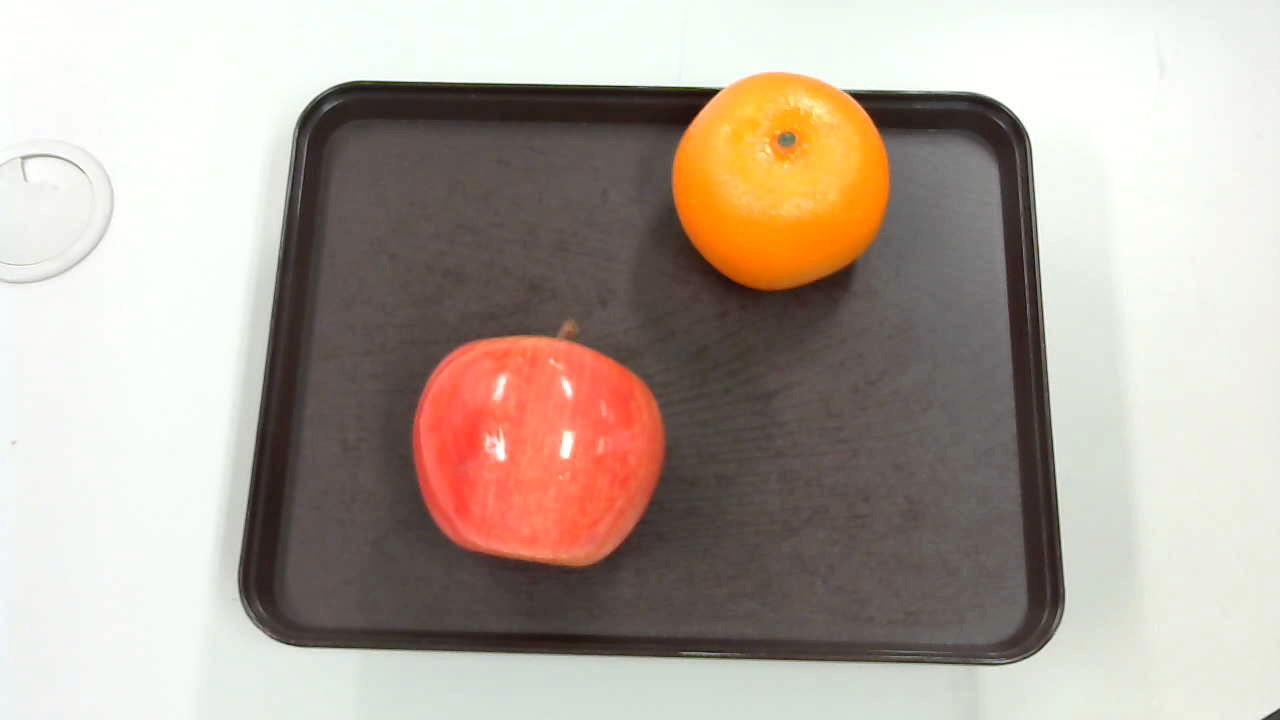orange: (670, 67, 891, 293)
red apple: (412, 317, 666, 566)
